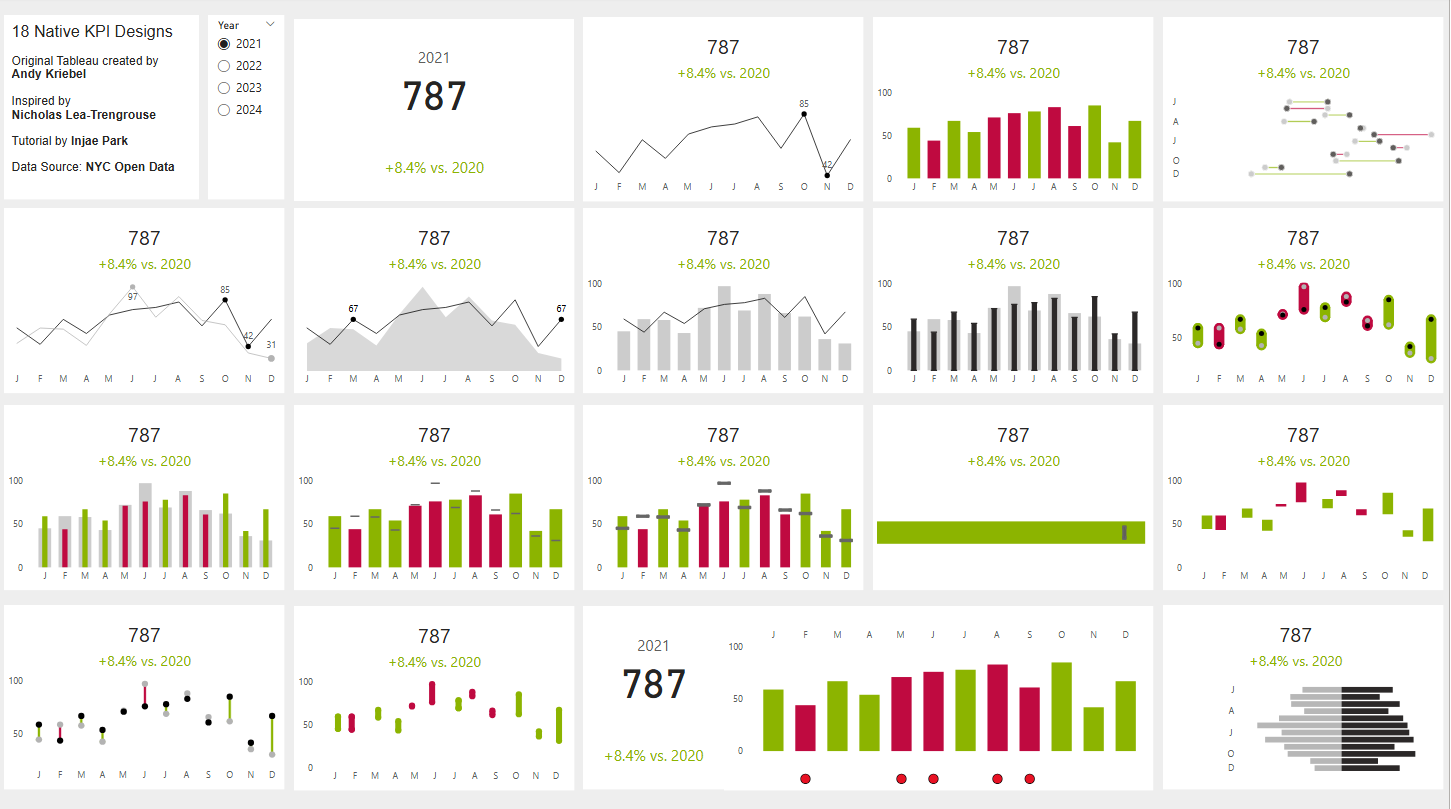

What the dashboard file says about the page in this screenshot:
{"tool":"powerbi","page":{"name":"Native SVGs","canvas":[1920,1080],"ordinal":0},"visuals":[{"type":"slicer","fields":{"Values":["Date.Year"]},"box":[277.9,23.7,101.4,243.7],"z":0},{"type":"textbox","box":[7.9,23.7,258.1,243.7],"z":1000},{"type":"cardVisual","fields":{"Data":["_Measures.__Current Year"]},"box":[391.2,23.7,371.4,246.3],"z":2000},{"type":"lineChart","fields":{"Y":["_Measures.__Current Year","_Measures.Max Current Value","_Measures.Min Current Value"],"Category":["Date.Month Letter"]},"box":[774.4,26.3,371.4,243.7],"z":3000},{"type":"columnChart","fields":{"Category":["Date.Month Letter"],"Y":["_Measures.__Current Year"]},"box":[1157.7,26.3,371.4,243.7],"z":4000},{"type":"lineChart","fields":{"Y":["_Measures.__Current Year","_Measures.Max Current Value","_Measures.Min Current Value","_Measures.__Past Year","_Measures.Max Past Year Value","_Measures.Min Past Year Value"],"Category":["Date.Month Letter"]},"box":[7.9,279.2,371.4,245],"z":5000},{"type":"lineChart","fields":{"Y":["_Measures.__Current Year","_Measures.Last Month Value","_Measures.__Past Year"],"Category":["Date.Month Letter"]},"box":[391.2,279.2,371.4,245],"z":6000},{"type":"lineClusteredColumnComboChart","fields":{"Category":["Date.Month Letter"],"Y2":["_Measures.__Current Year"],"Y":["_Measures.__Past Year"]},"box":[774.4,279.2,371.4,245],"z":7000},{"type":"columnChart","fields":{"Category":["Date.Month Letter"],"Y":["_Measures.__Past Year"]},"box":[1157.7,279.2,371.4,245],"z":8000},{"type":"clusteredColumnChart","fields":{"Category":["Date.Month Letter"],"Y":["_Measures.__Past Year","_Measures._0"]},"box":[7.9,540,371.4,245],"z":9000},{"type":"columnChart","fields":{"Category":["Date.Month Letter"],"Y":["_Measures.__Current Year"]},"box":[391.2,540,371.4,245],"z":10000},{"type":"columnChart","fields":{"Category":["Date.Month Letter"],"Y":["_Measures.__Current Year"]},"box":[774.4,540,371.4,245],"z":11000},{"type":"clusteredBarChart","fields":{"Y":["_Measures.__Current Year"],"Category":["Date.Year"]},"box":[1157.7,540,371.4,245],"z":12000},{"type":"clusteredBarChart","fields":{"Category":["Date.Month Number"],"Y":["_Measures._0 C1","_Measures._0 c2","_Measures._0","_Measures._0 v2"]},"box":[1541,26.3,371.4,243.7],"z":13000},{"type":"lineClusteredColumnComboChart","fields":{"Category":["Date.Month Letter"],"Y2":["_Measures.__Past Year","_Measures.__Current Year"]},"box":[7.9,804.7,371.4,243.7],"z":14000},{"type":"lineClusteredColumnComboChart","fields":{"Category":["Date.Month Letter"],"Y":["_Measures._0","_Measures._0 C1"]},"box":[391.2,806,371.4,243.7],"z":15000},{"type":"cardVisual","fields":{"Data":["_Measures.__Current Year"]},"box":[774.4,806,187,243.7],"z":16000},{"type":"clusteredColumnChart","fields":{"Category":["Date.Month Letter"],"Y":["_Measures._dot bar negative","_Measures.Positive Delta Current Year","_Measures.Negative Delta Current Year","_Measures._dot bar positive"]},"box":[960.1,806,567.7,243.7],"z":17000},{"type":"lineClusteredColumnComboChart","fields":{"Category":["Date.Month Letter"],"Y2":["_Measures.__Past Year","_Measures.__Current Year"]},"box":[1541,279.2,371.4,245],"z":18000},{"type":"lineClusteredColumnComboChart","fields":{"Category":["Date.Month Letter"],"Y":["_Measures._0","_Measures._0 C1"]},"box":[1541,540,371.4,245],"z":19000},{"type":"clusteredBarChart","fields":{"Category":["Date.Month Number"],"Y":["_Measures._tornado Label bar","_Measures._Tornado Negative Past year","_Measures.__Current Year"]},"box":[1541,804.7,371.4,243.7],"z":20000}]}

Visuals, with their boxes in screenshot pixels (x1, y1, x2, y2), scaled from the page's 1920x1080 canvas onto the 1451x809 screenshot:
slicer - Date.Year: <bbox>210, 18, 287, 200</bbox>
textbox: <bbox>6, 18, 201, 200</bbox>
cardVisual - _Measures.__Current Year: <bbox>296, 18, 576, 202</bbox>
lineChart - _Measures.__Current Year x _Measures.Max Current Value: <bbox>585, 20, 866, 202</bbox>
columnChart - Date.Month Letter x _Measures.__Current Year: <bbox>875, 20, 1156, 202</bbox>
lineChart - _Measures.__Current Year x _Measures.Max Current Value: <bbox>6, 209, 287, 393</bbox>
lineChart - _Measures.__Current Year x _Measures.Last Month Value: <bbox>296, 209, 576, 393</bbox>
lineClusteredColumnComboChart - Date.Month Letter x _Measures.__Current Year: <bbox>585, 209, 866, 393</bbox>
columnChart - Date.Month Letter x _Measures.__Past Year: <bbox>875, 209, 1156, 393</bbox>
clusteredColumnChart - Date.Month Letter x _Measures.__Past Year: <bbox>6, 404, 287, 588</bbox>
columnChart - Date.Month Letter x _Measures.__Current Year: <bbox>296, 404, 576, 588</bbox>
columnChart - Date.Month Letter x _Measures.__Current Year: <bbox>585, 404, 866, 588</bbox>
clusteredBarChart - _Measures.__Current Year x Date.Year: <bbox>875, 404, 1156, 588</bbox>
clusteredBarChart - Date.Month Number x _Measures._0 C1: <bbox>1165, 20, 1445, 202</bbox>
lineClusteredColumnComboChart - Date.Month Letter x _Measures.__Past Year: <bbox>6, 603, 287, 785</bbox>
lineClusteredColumnComboChart - Date.Month Letter x _Measures._0: <bbox>296, 604, 576, 786</bbox>
cardVisual - _Measures.__Current Year: <bbox>585, 604, 727, 786</bbox>
clusteredColumnChart - Date.Month Letter x _Measures._dot bar negative: <bbox>726, 604, 1155, 786</bbox>
lineClusteredColumnComboChart - Date.Month Letter x _Measures.__Past Year: <bbox>1165, 209, 1445, 393</bbox>
lineClusteredColumnComboChart - Date.Month Letter x _Measures._0: <bbox>1165, 404, 1445, 588</bbox>
clusteredBarChart - Date.Month Number x _Measures._tornado Label bar: <bbox>1165, 603, 1445, 785</bbox>
